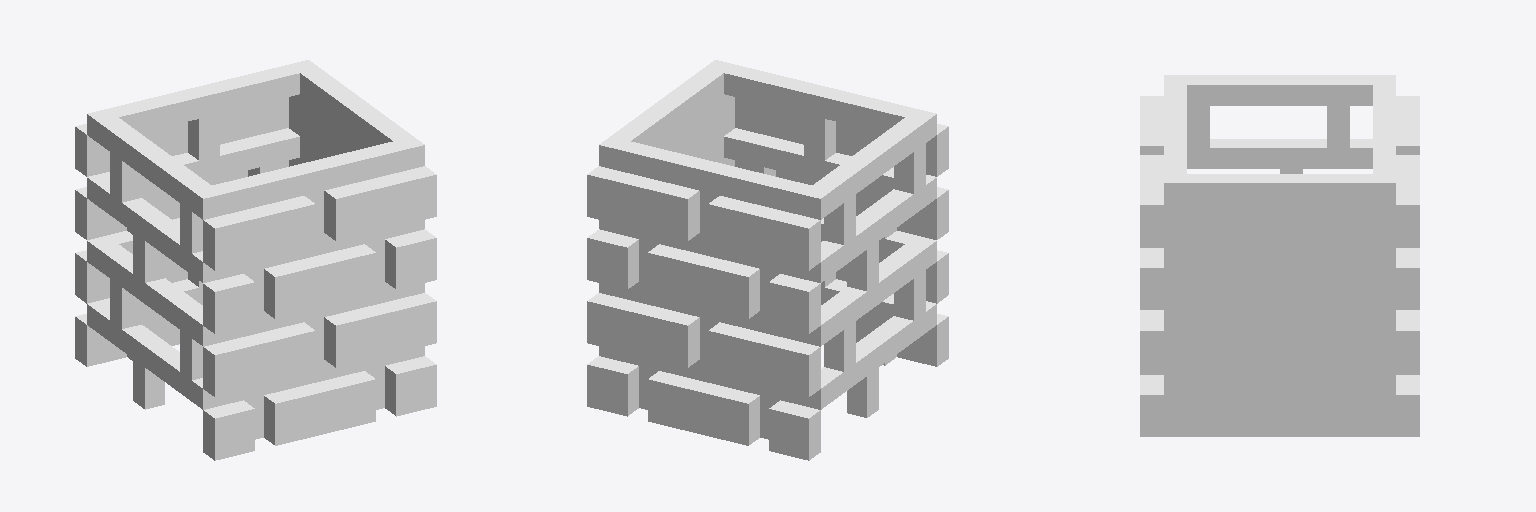
File: one_side_mini_column_1.0.obj
The picture shows the model from 3 angles: view 1: azimuth 30°, elevation 25°; view 2: azimuth 150°, elevation 25°; view 3: azimuth 270°, elevation 25°; orthographic projection.
Visible parts, largest first — view 1: object 1; view 2: object 1; view 3: object 1.
Boxes of the visible parts, x1=… form: object 1: x1=75, y1=60, x2=436, y2=460; object 1: x1=587, y1=60, x2=948, y2=460; object 1: x1=1140, y1=75, x2=1419, y2=436.
Bounding box in the file's own units: 1.1 × 1.2 × 1.2.